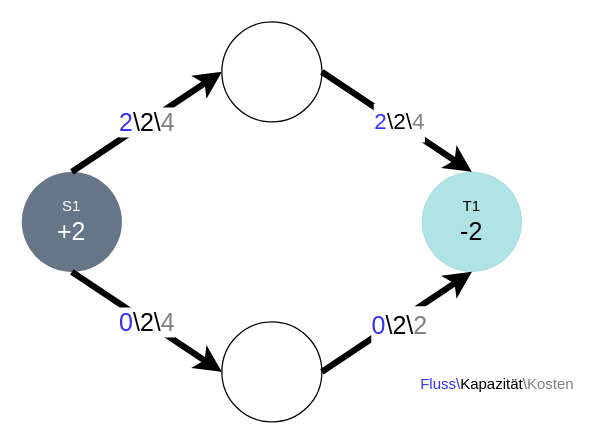
Some shapes in this 605 by 444 pixel diagram are drawn without their labels. Here are the shapes that lost their labels. From the top down, the box of each, then its label:
(221, 21, 322, 122): V2
(221, 321, 322, 422): V1
